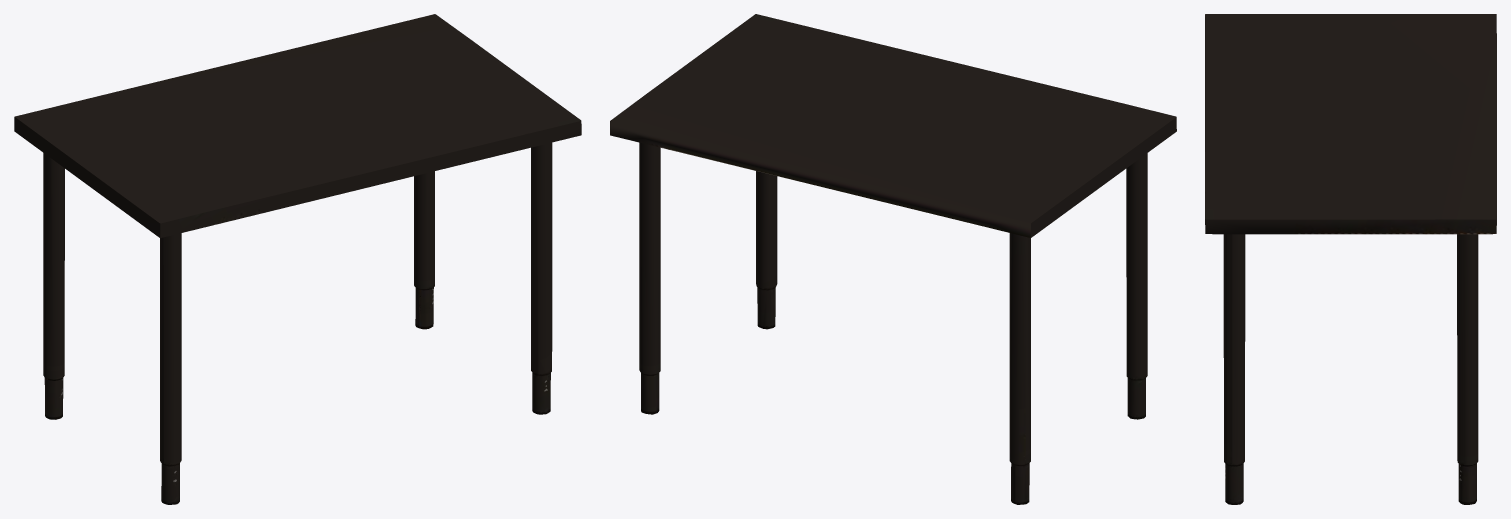
3 views of the same model, side by side, from view 1: azimuth 30°, elevation 25°; view 2: azimuth 150°, elevation 25°; view 3: azimuth 270°, elevation 25° (orthographic).
Parts seen in each view (by area): view 1: ProcessedMeshNode; view 2: ProcessedMeshNode; view 3: ProcessedMeshNode.
Boxes of the visible parts, box(x1,y1,x2,y2) form: ProcessedMeshNode: box(14, 14, 581, 504); ProcessedMeshNode: box(610, 14, 1176, 504); ProcessedMeshNode: box(1205, 14, 1496, 504).
Size of the model in its own units: 1 by 0.6695 by 0.6005.
1 material, 1 textured.
